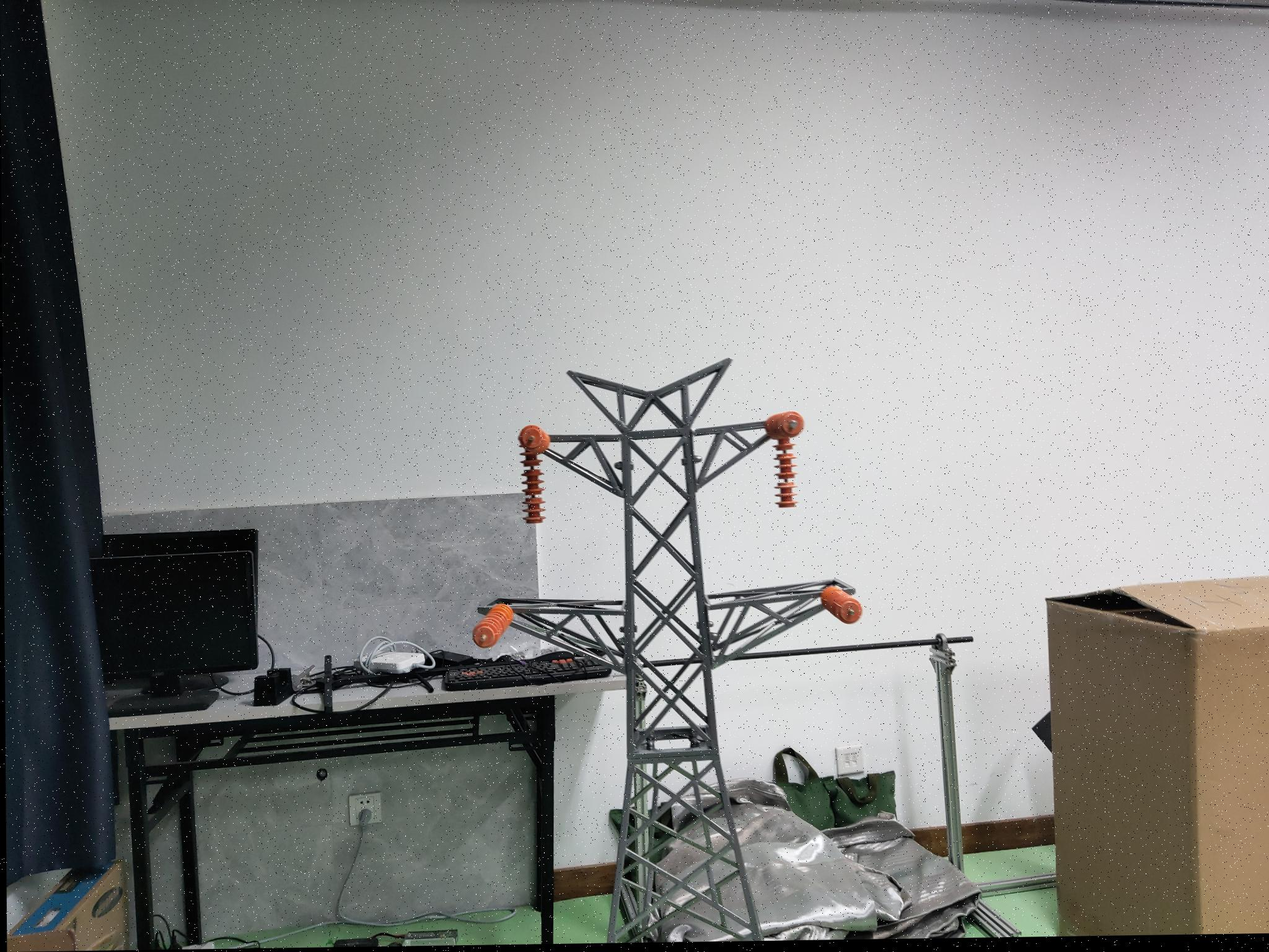tower: (492, 356, 857, 945)
